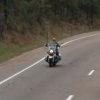Motorcycle: (40, 35, 64, 76)
